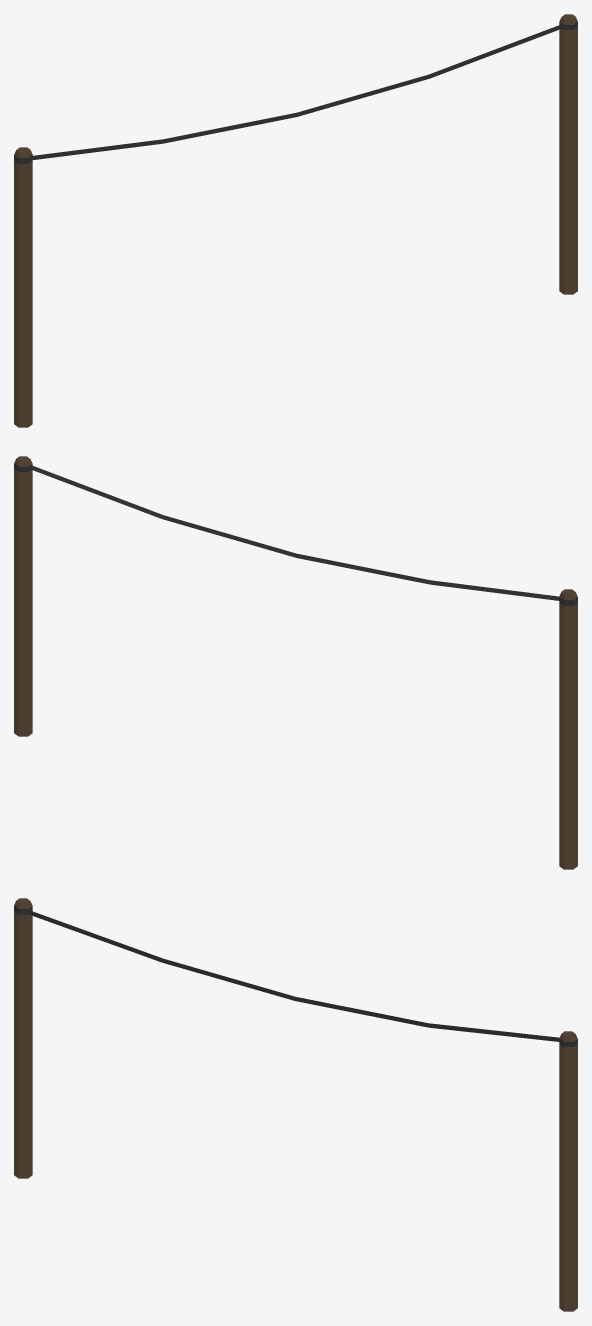
Rendered from dryer-outside-base.glb.
3 views of the same model, one above another, from view 1: azimuth 30°, elevation 25°; view 2: azimuth 150°, elevation 25°; view 3: azimuth 330°, elevation 25° (orthographic).
Parts seen in each view (by area): view 1: dryer-outside-base; view 2: dryer-outside-base; view 3: dryer-outside-base.
Boxes of the visible parts, x1,y1,x2,y2 form: dryer-outside-base: (14,14,577,427); dryer-outside-base: (14,456,577,869); dryer-outside-base: (14,898,577,1311).
Bounding box in the file's own units: 4.11 × 1.92 × 0.1194.
Materials: 1 (1 with a texture image).
